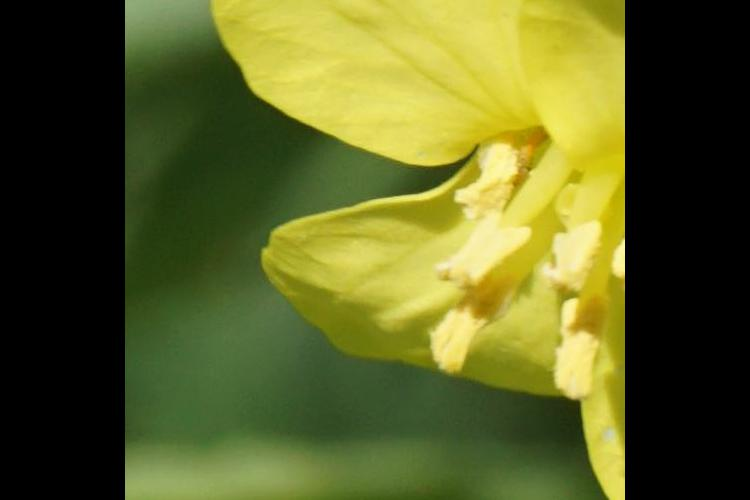yellow: (223, 1, 624, 487)
